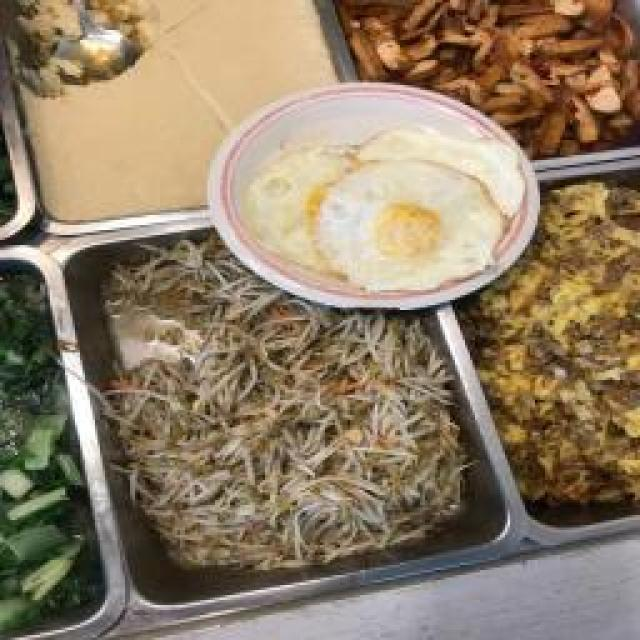fried_eggs: (255, 135, 508, 283)
mung_bean_sprouts: (153, 333, 428, 536)
